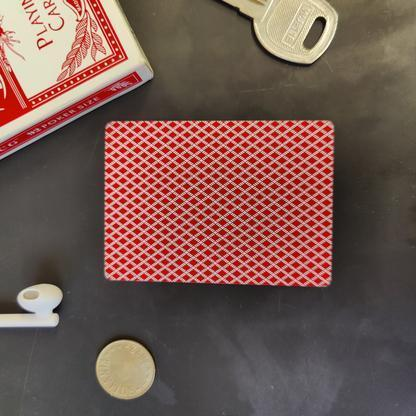card: (98, 115, 338, 290)
